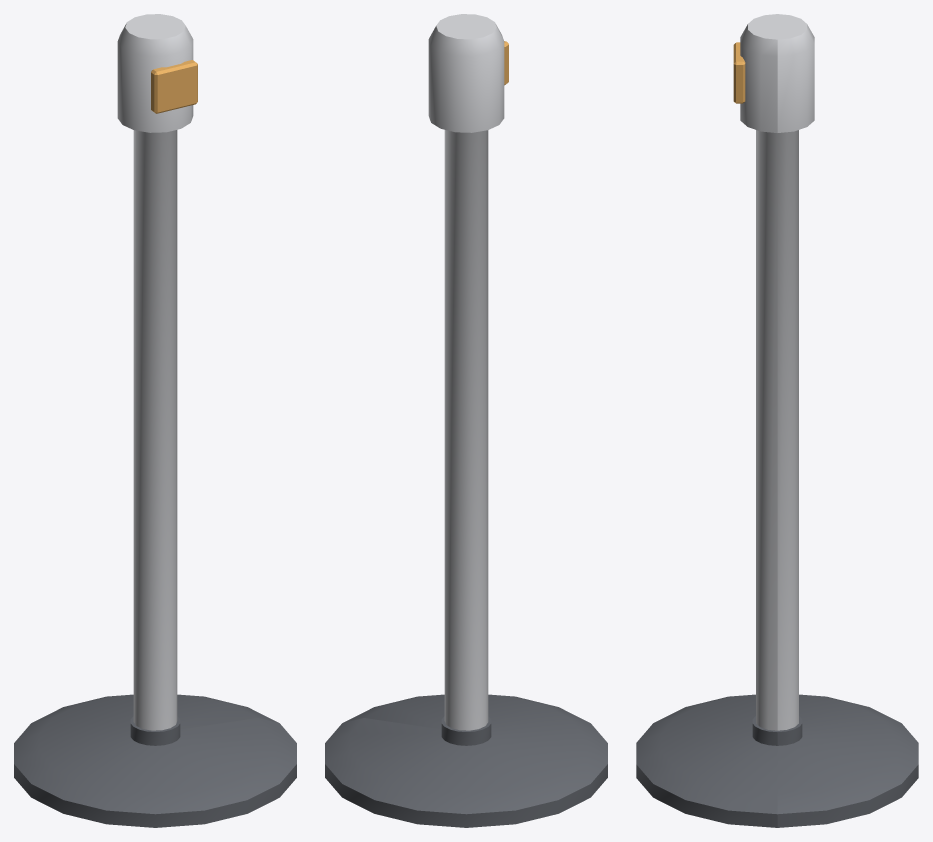
Rendered from office-lobby-and-facilities-queue-post-belt-3388b708__26155.glb.
3 views of the same model, side by side, from view 1: azimuth 30°, elevation 25°; view 2: azimuth 150°, elevation 25°; view 3: azimuth 270°, elevation 25° (orthographic).
Parts seen in each view (by area): view 1: queue-post-belt; view 2: queue-post-belt; view 3: queue-post-belt.
Part boxes in pixels (x1=…): queue-post-belt: x1=14, y1=14, x2=296, y2=827; queue-post-belt: x1=325, y1=14, x2=607, y2=827; queue-post-belt: x1=636, y1=14, x2=918, y2=827.
Size of the model in its own units: 0.34 by 0.968 by 0.3349.
